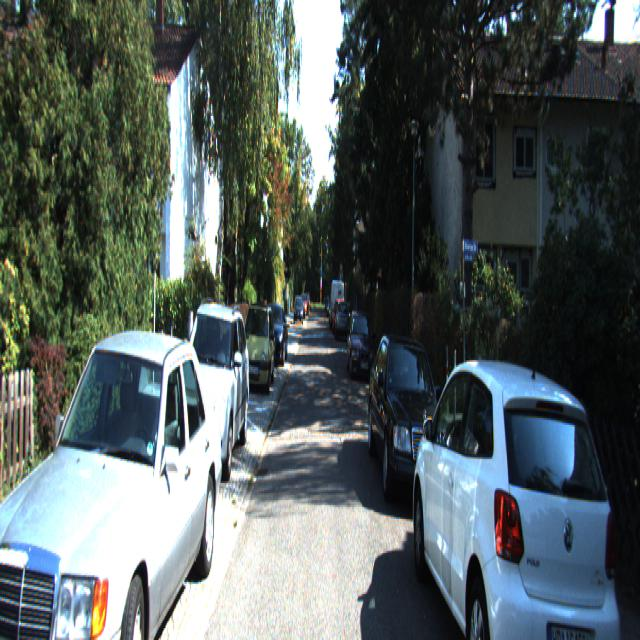Car: (0, 319, 227, 638), (410, 345, 636, 638), (367, 329, 457, 531), (166, 299, 251, 486), (239, 298, 275, 392), (347, 308, 377, 381), (260, 303, 287, 368), (332, 278, 346, 331), (336, 300, 350, 342)
